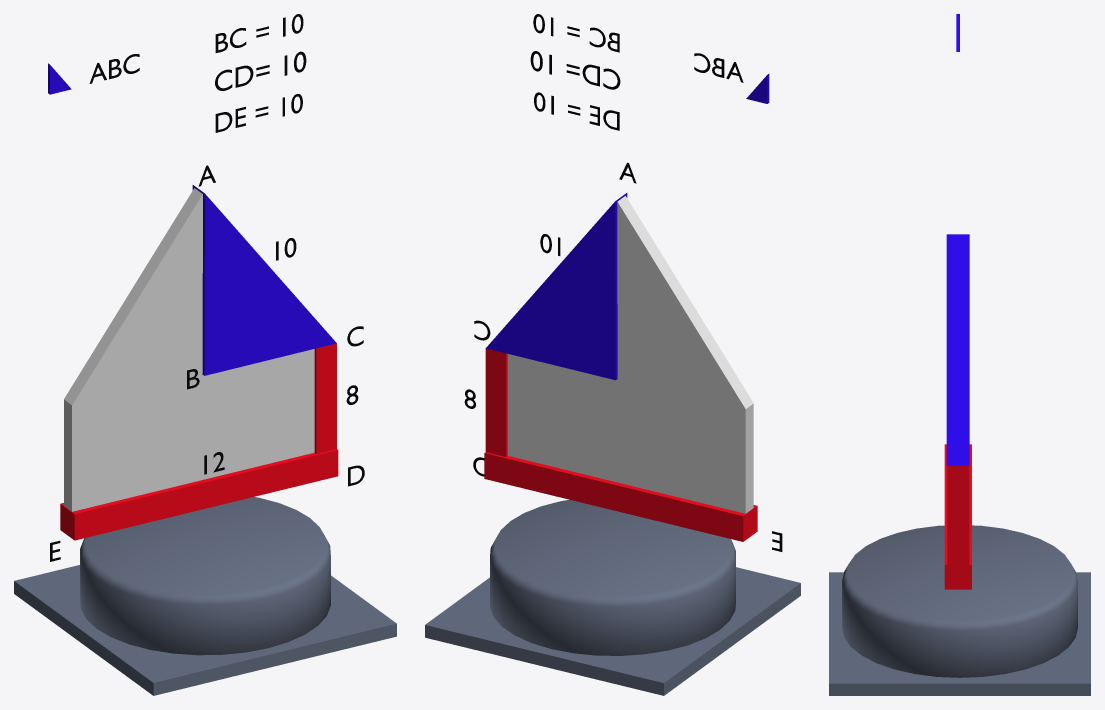
The picture shows the model from 3 angles, left to right: view 1: azimuth 30°, elevation 25°; view 2: azimuth 150°, elevation 25°; view 3: azimuth 270°, elevation 25°; orthographic projection. The views are drawn at different scales.
Parts seen in each view (by area): view 1: подставка, Cube, Cube.001, Cube.002, Cube.003, Text.010, Text.011; view 2: подставка, Cube, Cube.001, Cube.002, Cube.003, Text.010; view 3: подставка, Cube.002, Cube.003.
Boxes of the visible parts, left/top/right/bottom form: подставка: left=14, top=497, right=396, bottom=695; Cube: left=64, top=349, right=314, bottom=511; Cube.001: left=64, top=188, right=202, bottom=405; Cube.002: left=192, top=185, right=336, bottom=375; Cube.003: left=60, top=343, right=338, bottom=540; Text.010: left=215, top=51, right=306, bottom=90; Text.011: left=215, top=94, right=302, bottom=132; подставка: left=425, top=499, right=800, bottom=695; Cube: left=507, top=354, right=753, bottom=513; Cube.001: left=617, top=196, right=753, bottom=409; Cube.002: left=486, top=193, right=627, bottom=380; Cube.003: left=484, top=348, right=757, bottom=541; Text.010: left=530, top=51, right=620, bottom=89; подставка: left=829, top=525, right=1090, bottom=695; Cube.002: left=946, top=234, right=969, bottom=465; Cube.003: left=944, top=444, right=971, bottom=589.
Size of the model in its own units: 11.88 by 21.22 by 9.09.
